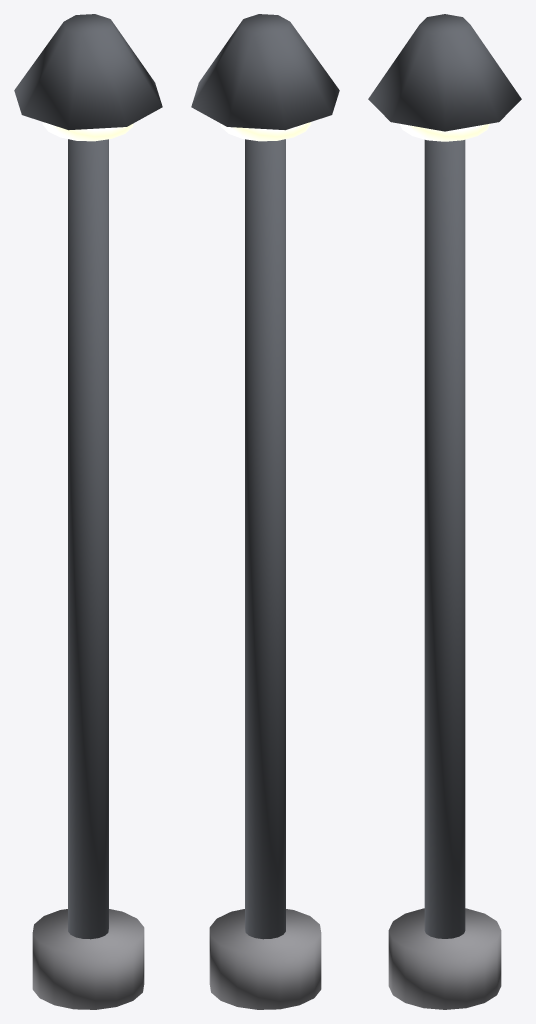
Rendered from prop_gairoto.glb.
3 renders of one model, left to right at view 1: azimuth 30°, elevation 25°; view 2: azimuth 150°, elevation 25°; view 3: azimuth 270°, elevation 25°, orthographic.
Parts seen in each view (by area): view 1: gairoto; view 2: gairoto; view 3: gairoto.
Boxes of the visible parts, x1,y1,x2,y2 form: gairoto: (14, 14, 162, 1009); gairoto: (191, 14, 339, 1009); gairoto: (368, 14, 521, 1009).
Bounding box in the file's own units: 0.6 × 4.14 × 0.6.
